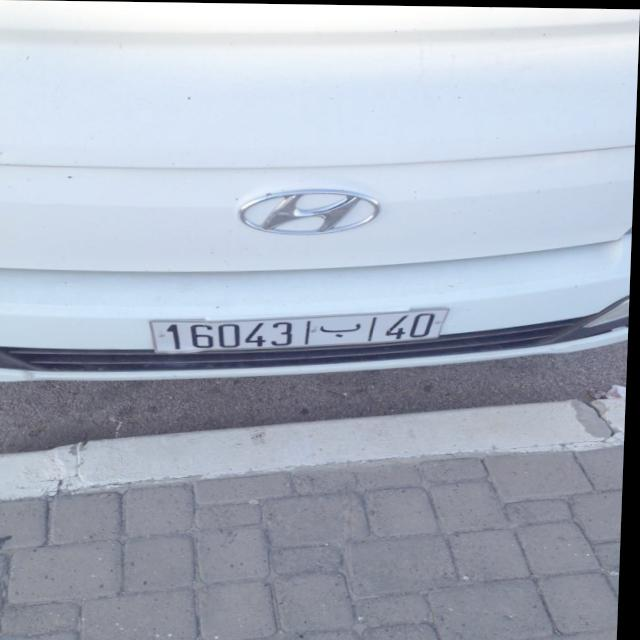License-Plate: (154, 308, 450, 353)
